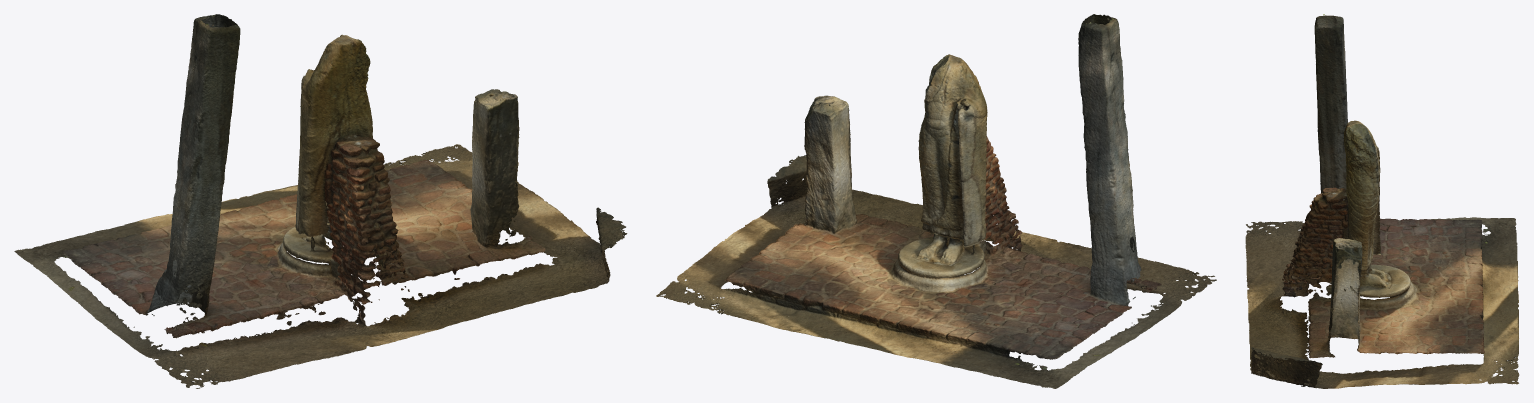
3 views of the same model, side by side, from view 1: azimuth 30°, elevation 25°; view 2: azimuth 150°, elevation 25°; view 3: azimuth 270°, elevation 25° (orthographic). The views are drawn at different scales.
Parts seen in each view (by area): view 1: Mesh[statue.las] (level 10).part; view 2: Mesh[statue.las] (level 10).part; view 3: Mesh[statue.las] (level 10).part.
Boxes of the visible parts, bbox=[...] form: Mesh[statue.las] (level 10).part: bbox=[14, 14, 627, 388]; Mesh[statue.las] (level 10).part: bbox=[656, 14, 1216, 388]; Mesh[statue.las] (level 10).part: bbox=[1245, 14, 1519, 388].
Size of the model in its own units: 0.0456 by 0.0303 by 0.0316.
